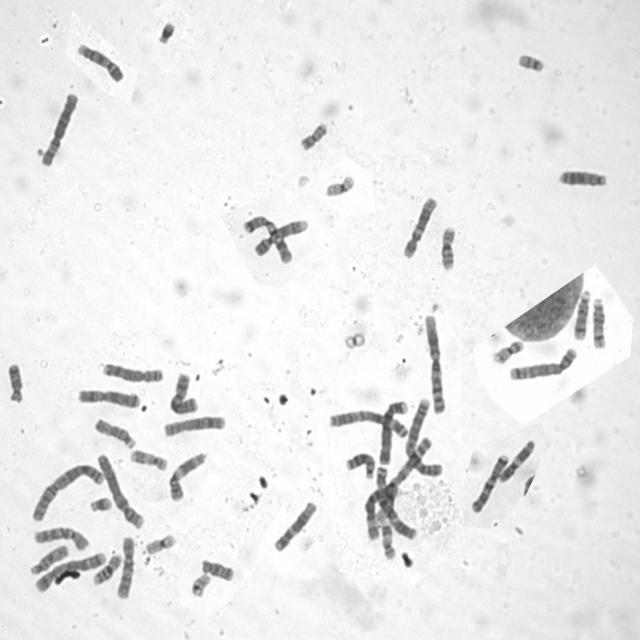A1: (373, 436, 432, 525), (424, 313, 447, 415)
A2: (31, 464, 106, 524), (404, 396, 444, 478)
A3: (374, 465, 418, 541), (328, 409, 408, 439)
B4: (95, 452, 146, 532), (377, 400, 409, 466)
B5: (34, 550, 107, 594), (508, 347, 580, 383)
C10: (114, 534, 137, 602), (33, 527, 90, 552)
C11: (168, 452, 208, 504), (497, 438, 537, 483)
C12: (272, 499, 319, 554), (400, 197, 438, 260)
C6: (38, 90, 78, 167), (364, 484, 398, 541)
C7: (242, 213, 293, 265), (470, 454, 509, 514)
C8: (164, 415, 226, 439), (102, 362, 165, 383)
C9: (253, 219, 311, 257), (76, 42, 126, 84)
D13: (557, 169, 610, 189), (345, 452, 376, 481)
D14: (572, 288, 591, 340), (591, 297, 606, 351)
D15: (94, 418, 139, 450), (28, 544, 68, 575)
E16: (91, 552, 123, 588), (439, 226, 456, 274)
E17: (130, 447, 168, 473), (379, 517, 398, 560)
E18: (5, 364, 27, 406), (200, 559, 235, 581)
F19: (324, 173, 357, 198), (142, 533, 178, 555)
F20: (300, 120, 330, 152), (492, 339, 524, 366)
G21: (152, 20, 180, 48), (90, 496, 113, 513)
G22: (190, 572, 210, 598), (518, 54, 546, 72)
X: (78, 389, 140, 413), (168, 371, 201, 415)
